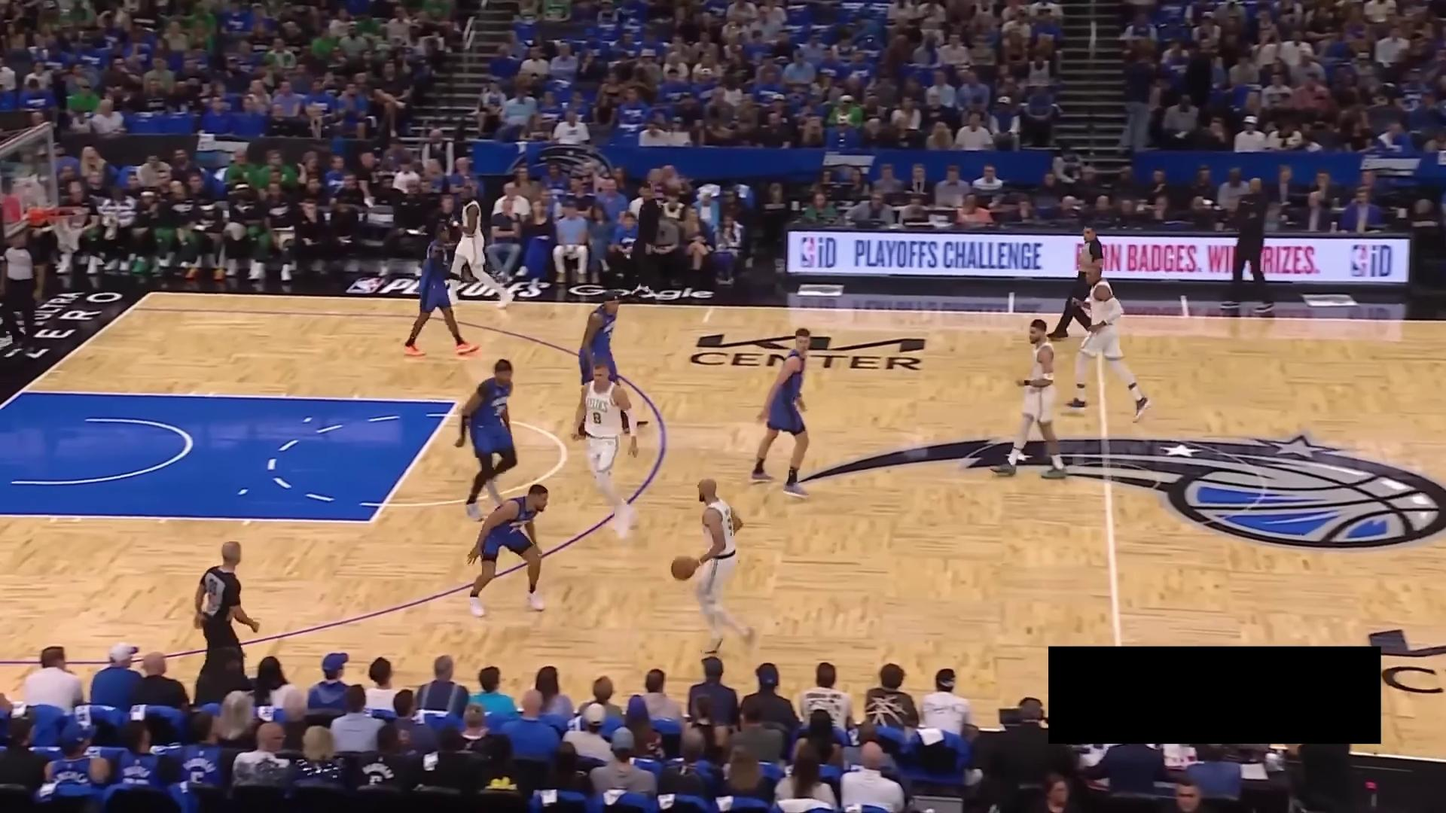ball: (671, 555, 697, 581)
number: (593, 411, 601, 424)
player: (464, 478, 566, 624), (1062, 263, 1152, 423), (744, 320, 820, 503), (988, 317, 1067, 480), (566, 292, 654, 437), (449, 355, 521, 520), (397, 217, 480, 358), (438, 181, 519, 312)
player-in-possession: (669, 478, 763, 655)
referee: (189, 536, 266, 682), (1041, 223, 1108, 342)
rim: (44, 205, 89, 222)
